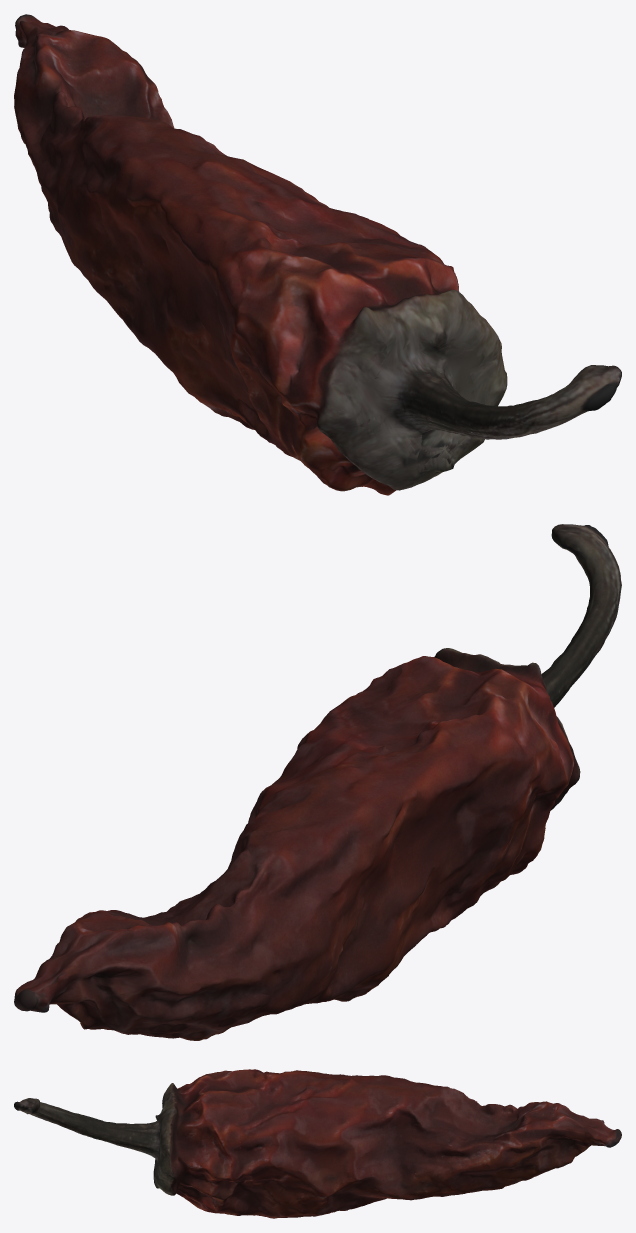
File: driedPepper_1.fbx
3 views of the same model, one above another, from view 1: azimuth 30°, elevation 25°; view 2: azimuth 150°, elevation 25°; view 3: azimuth 270°, elevation 25° (orthographic). The views are drawn at different scales.
Visible parts, largest first — view 1: Model; view 2: Model; view 3: Model.
Boxes of the visible parts, box(x1,y1,x2,y2) form: Model: box(14, 14, 621, 495); Model: box(14, 524, 621, 1040); Model: box(14, 1069, 621, 1218).
Bounding box in the file's own units: 45.82 × 48.01 × 210.
